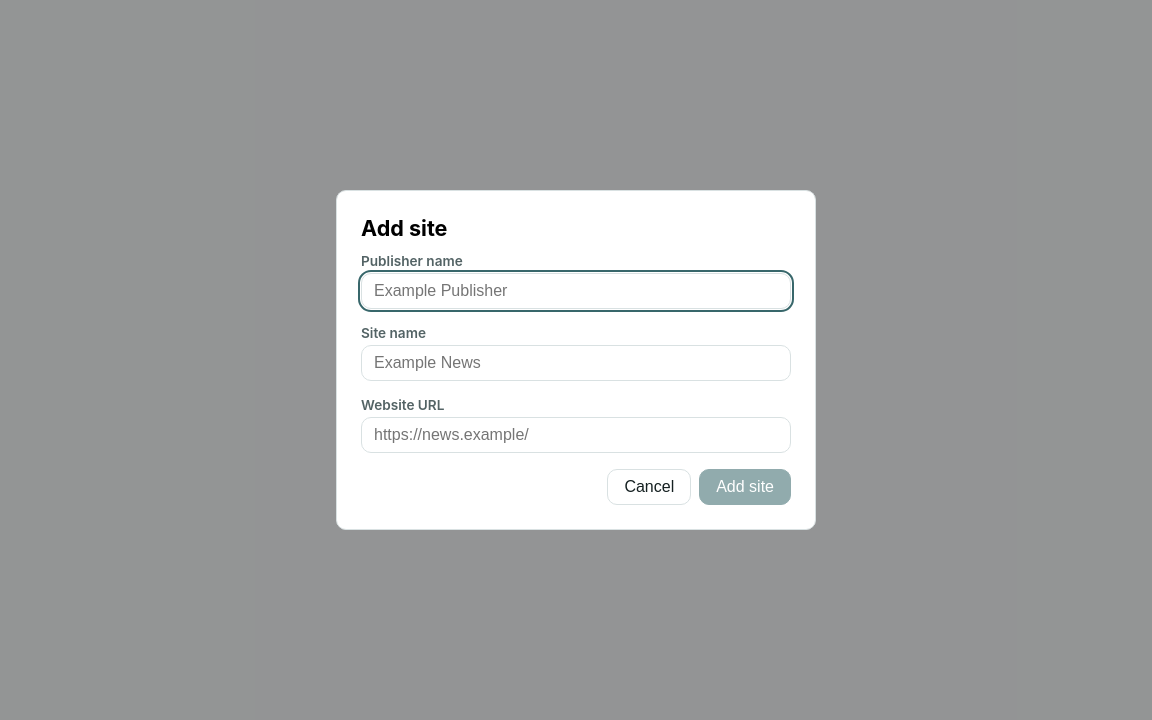
Test: AddSiteDialog › shows sanitized error for 401 unauthorized
Step 1. Type "Ex" into the field labelled "Publisher name" → x=576, y=291, box [361,273,791,309]
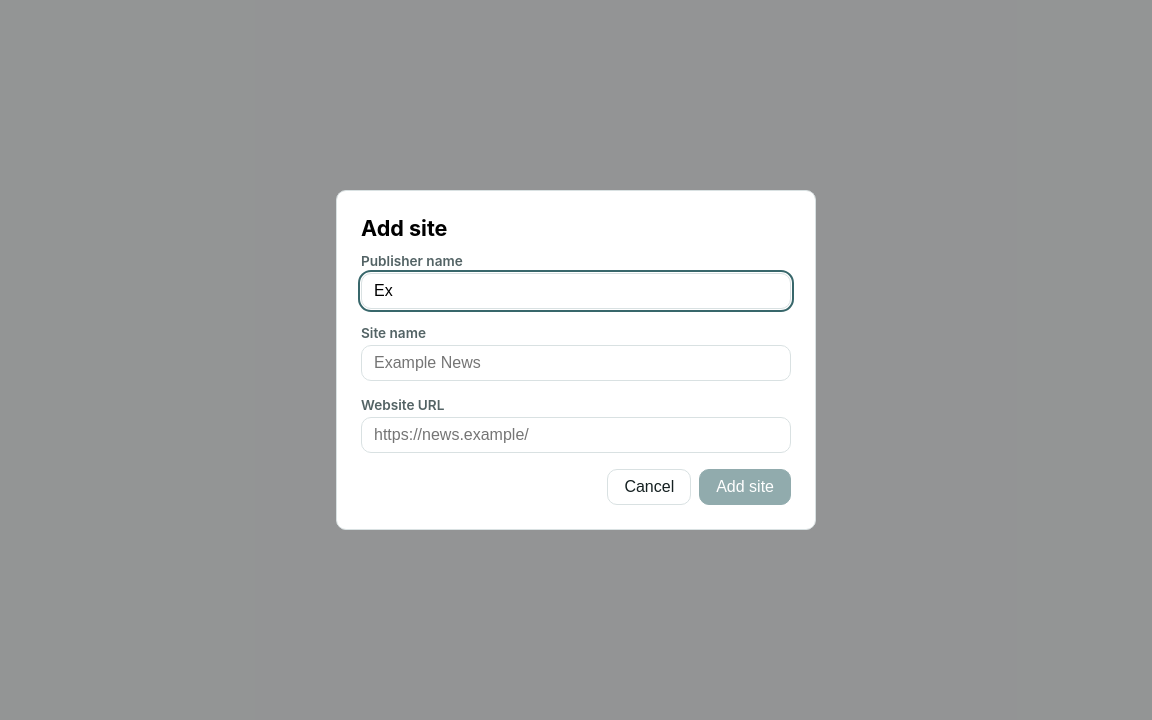
Step 2. Type "Site" into the field labelled "Site name" → x=576, y=363, box [361,345,791,381]
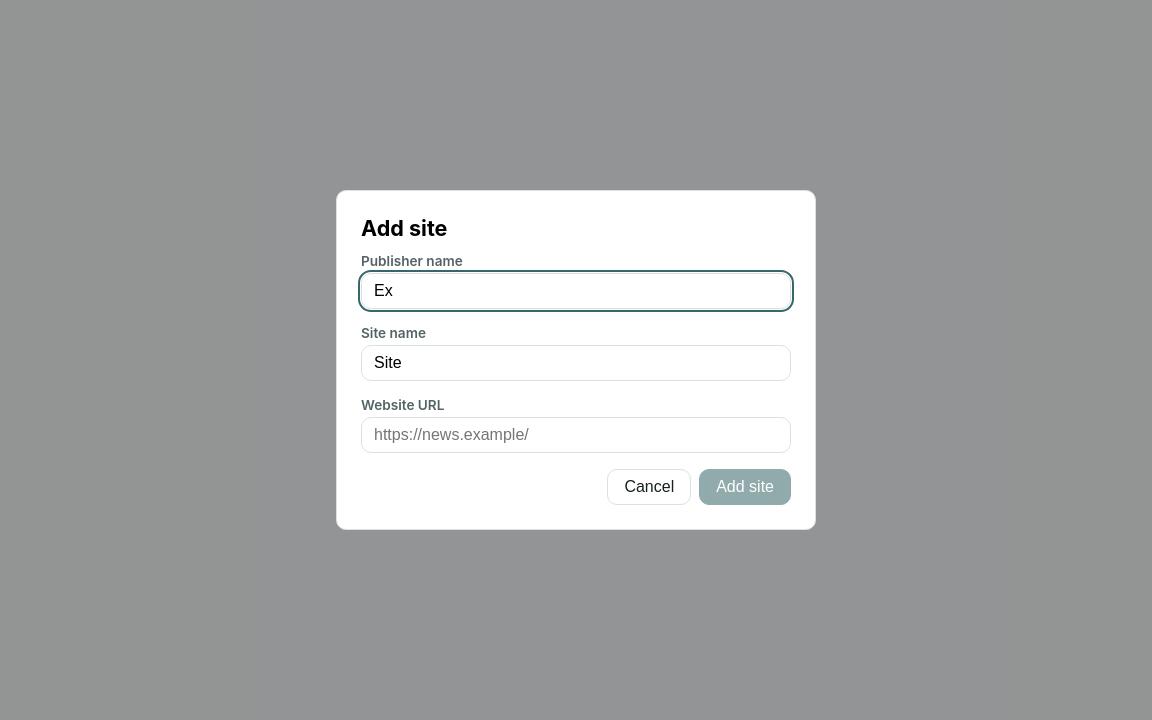
Step 3. Type "https://a.com" into the field labelled "Website URL" → x=576, y=435, box [361,417,791,453]
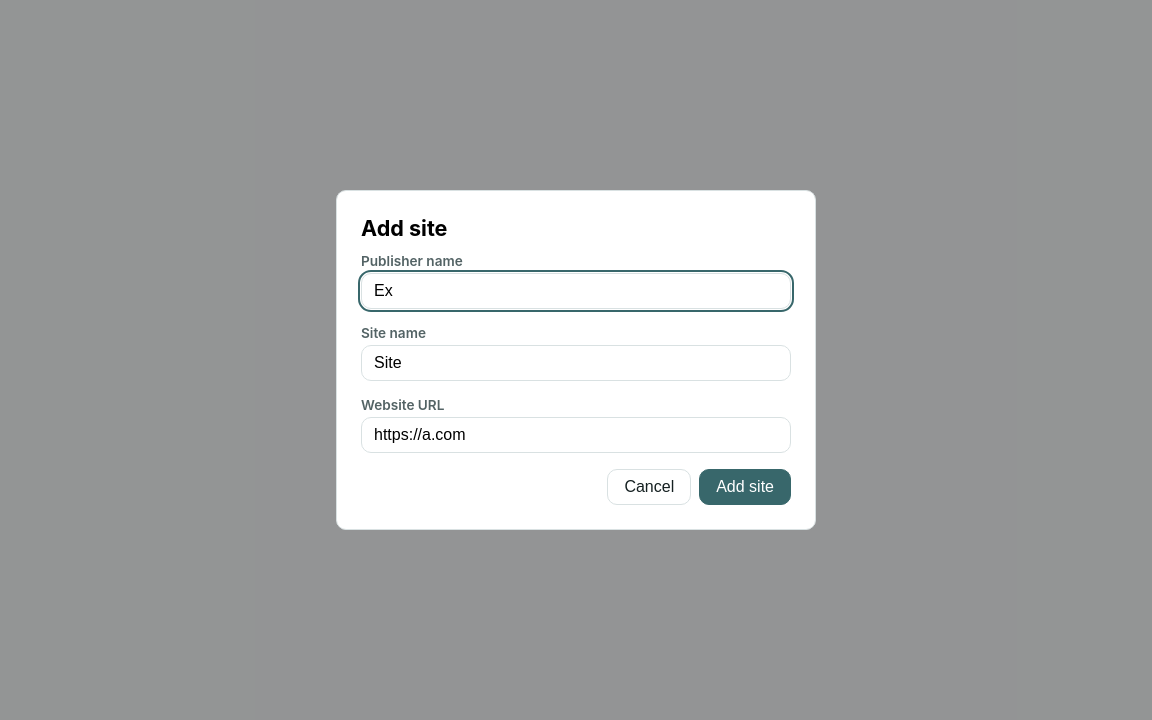
Step 4. Submit the form, box [361,215,791,505]
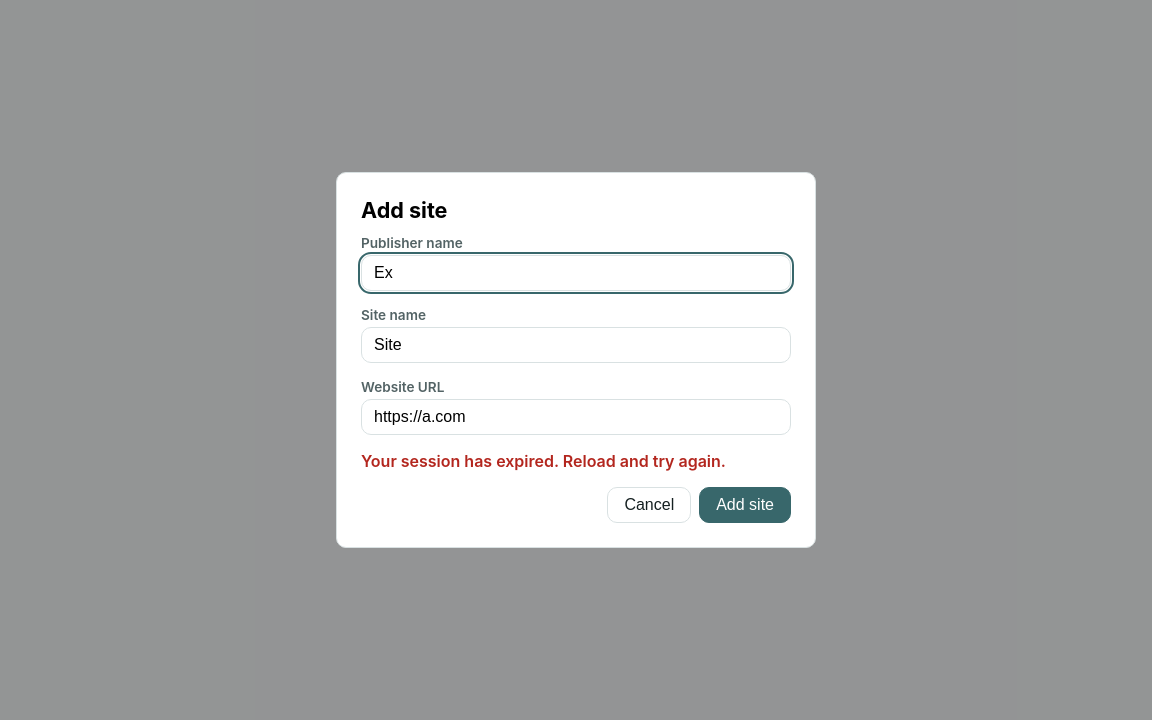
Expected: the text "Your session has expired. Reload and try again." is shown, [361,451,726,471]
